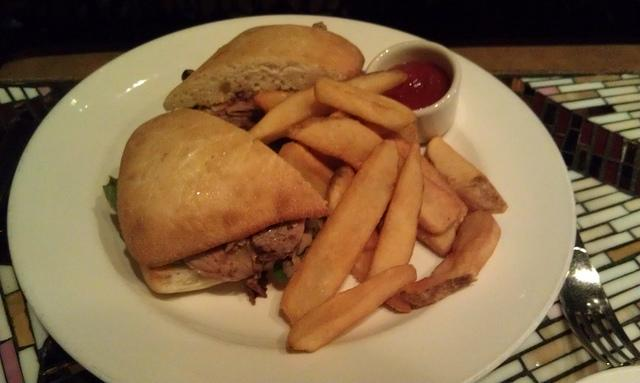lettuce: (102, 175, 116, 212), (274, 260, 288, 282)
